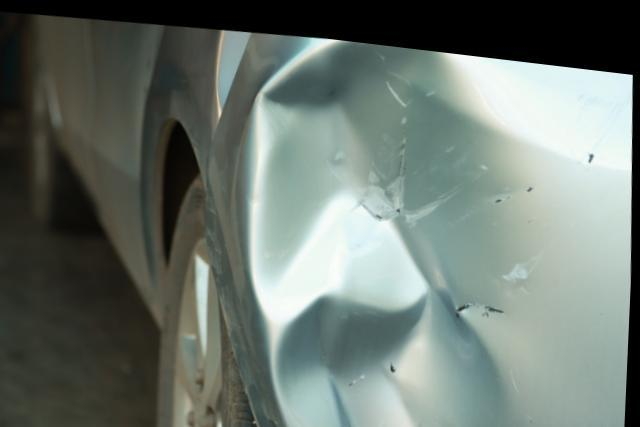dent: (240, 32, 578, 427)
